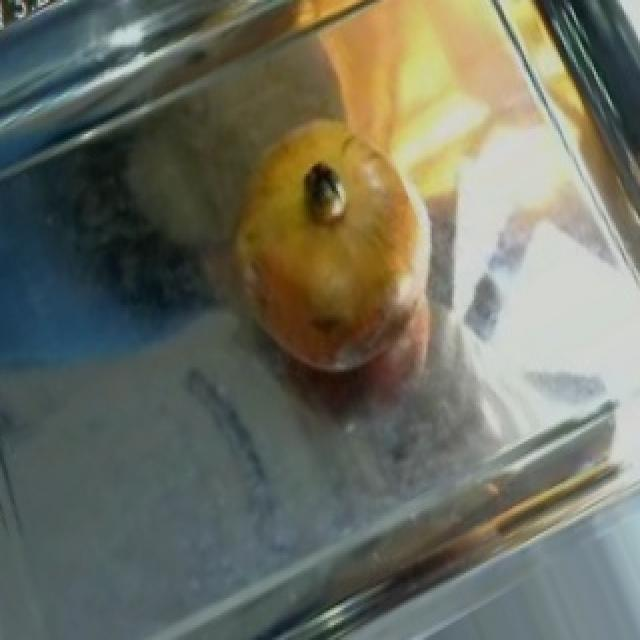fruit: (200, 116, 464, 402)
